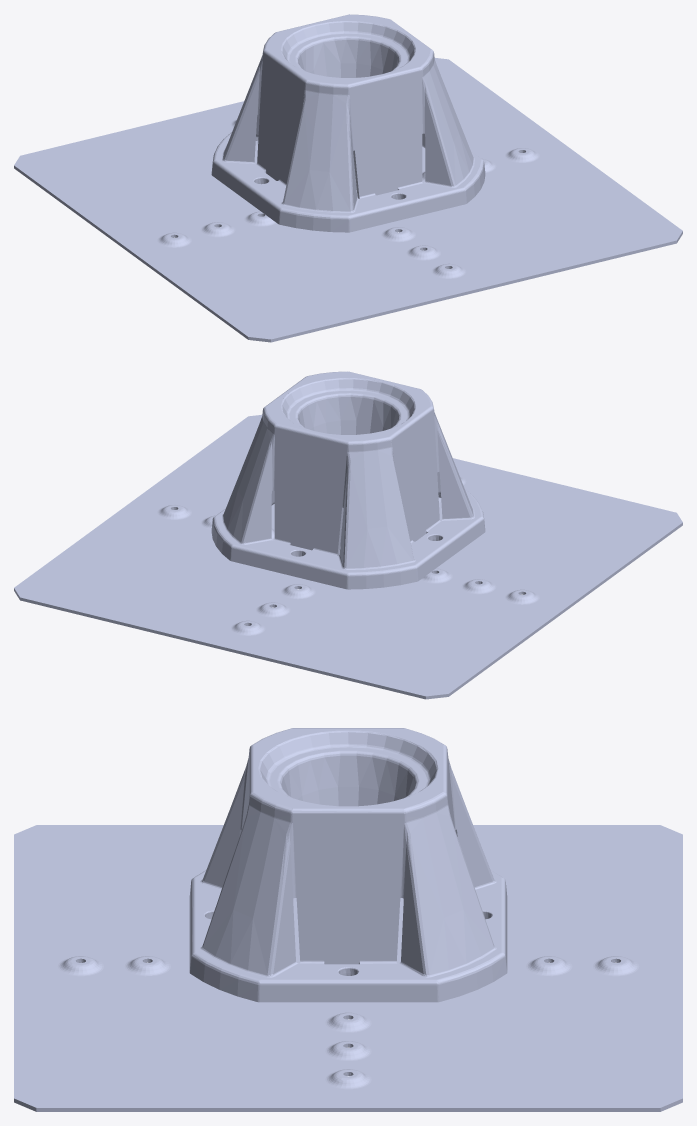
Rendered from goal_alliance.glb.
3 views of the same model, one above another, from view 1: azimuth 30°, elevation 25°; view 2: azimuth 150°, elevation 25°; view 3: azimuth 270°, elevation 25° (orthographic). The views are drawn at different scales.
Visible parts, largest first — view 1: world; view 2: world; view 3: world.
Part boxes in pixels (x1,y1,x2,y2): world: (14,14,682,342); world: (14,371,682,699); world: (14,728,682,1111).
Bounding box in the file's own units: 0.3 × 0.1 × 0.3.
